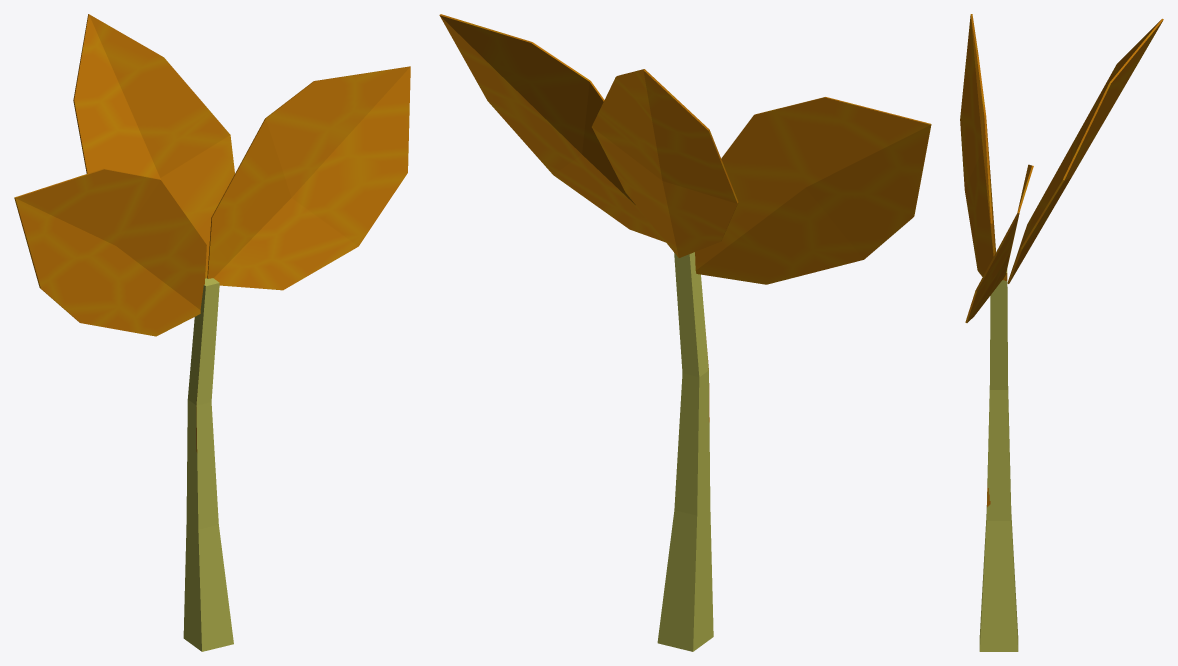
Rendered from OrangeFlower.fbx.
3 views of the same model, side by side, from view 1: azimuth 30°, elevation 25°; view 2: azimuth 150°, elevation 25°; view 3: azimuth 270°, elevation 25° (orthographic). The views are drawn at different scales.
Visible parts, largest first — view 1: Cube.007; view 2: Cube.007; view 3: Cube.007.
Part boxes in pixels (x1,y1,x2,y2): Cube.007: (14,14,410,651); Cube.007: (439,14,931,651); Cube.007: (960,14,1163,651).
Size of the model in its own units: 0.4272 by 0.5659 by 0.1731.
1 material, 1 textured.
